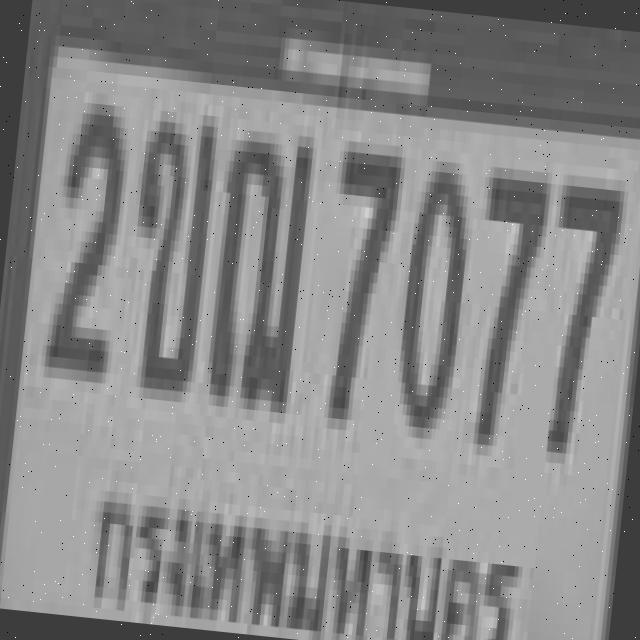0: (389, 148, 472, 430)
11KhorKhai: (116, 108, 215, 392)
2: (41, 85, 128, 366)
21ChorChoe: (202, 112, 316, 397)
7: (459, 150, 550, 432), (532, 174, 622, 446), (313, 140, 399, 411)
Bangkok: (81, 470, 533, 640)
